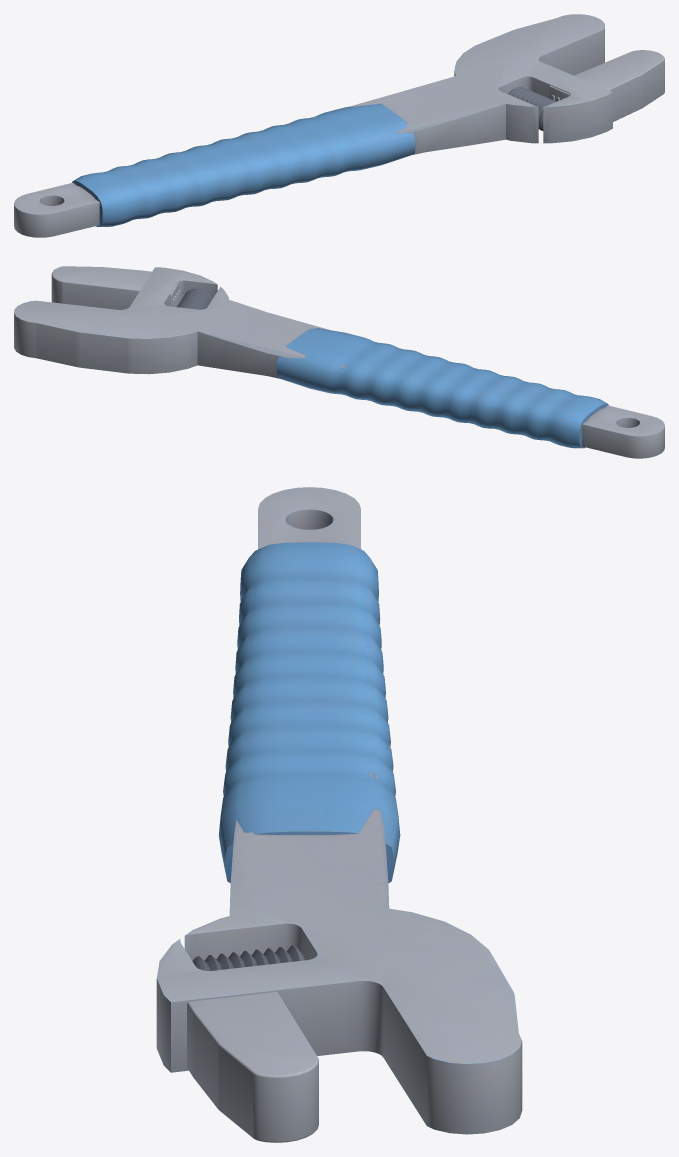
File: wrench.glb
3 views of the same model, one above another, from view 1: azimuth 30°, elevation 25°; view 2: azimuth 150°, elevation 25°; view 3: azimuth 270°, elevation 25° (orthographic). The views are drawn at different scales.
Parts seen in each view (by area): view 1: wrench_body, wrench_jaw, wrench_worm; view 2: wrench_body, wrench_jaw, wrench_worm; view 3: wrench_body, wrench_jaw, wrench_worm.
Part boxes in pixels (x1,y1,x2,y2): wrench_body: (14,14,612,237); wrench_jaw: (549,50,664,121); wrench_worm: (508,86,556,130); wrench_body: (14,267,664,458); wrench_jaw: (51,266,180,309); wrench_worm: (177,288,212,309); wrench_body: (156,487,522,1134); wrench_jaw: (187,992,318,1142); wrench_worm: (192,945,305,970).
Bounding box in the file's own units: 0.2487 × 0.0138 × 0.0639.
Materials: 3 (3 with a texture image).
